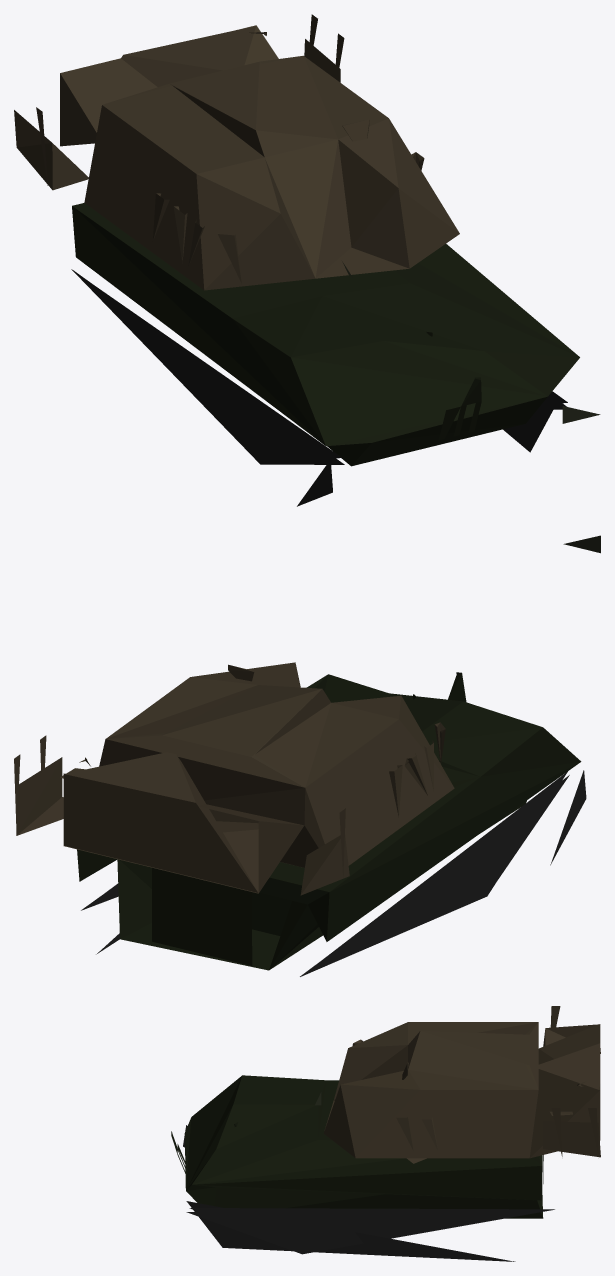
The picture shows the model from 3 angles, top to bottom: view 1: azimuth 30°, elevation 25°; view 2: azimuth 150°, elevation 25°; view 3: azimuth 270°, elevation 25°; orthographic projection. The views are drawn at different scales.
Parts seen in each view (by area): view 1: g_cannonbase_m109a6_m284l52__M109A6_PaladinCannon_709_0; view 2: g_cannonbase_m109a6_m284l52__M109A6_PaladinCannon_709_0; view 3: g_cannonbase_m109a6_m284l52__M109A6_PaladinCannon_709_0.
Boxes of the visible parts, box(x1,y1,x2,y2) form: g_cannonbase_m109a6_m284l52__M109A6_PaladinCannon_709_0: box(14, 14, 600, 506); g_cannonbase_m109a6_m284l52__M109A6_PaladinCannon_709_0: box(14, 535, 600, 976); g_cannonbase_m109a6_m284l52__M109A6_PaladinCannon_709_0: box(171, 1006, 600, 1261).
Bounding box in the file's own units: 3.57 × 2.9 × 8.7.
